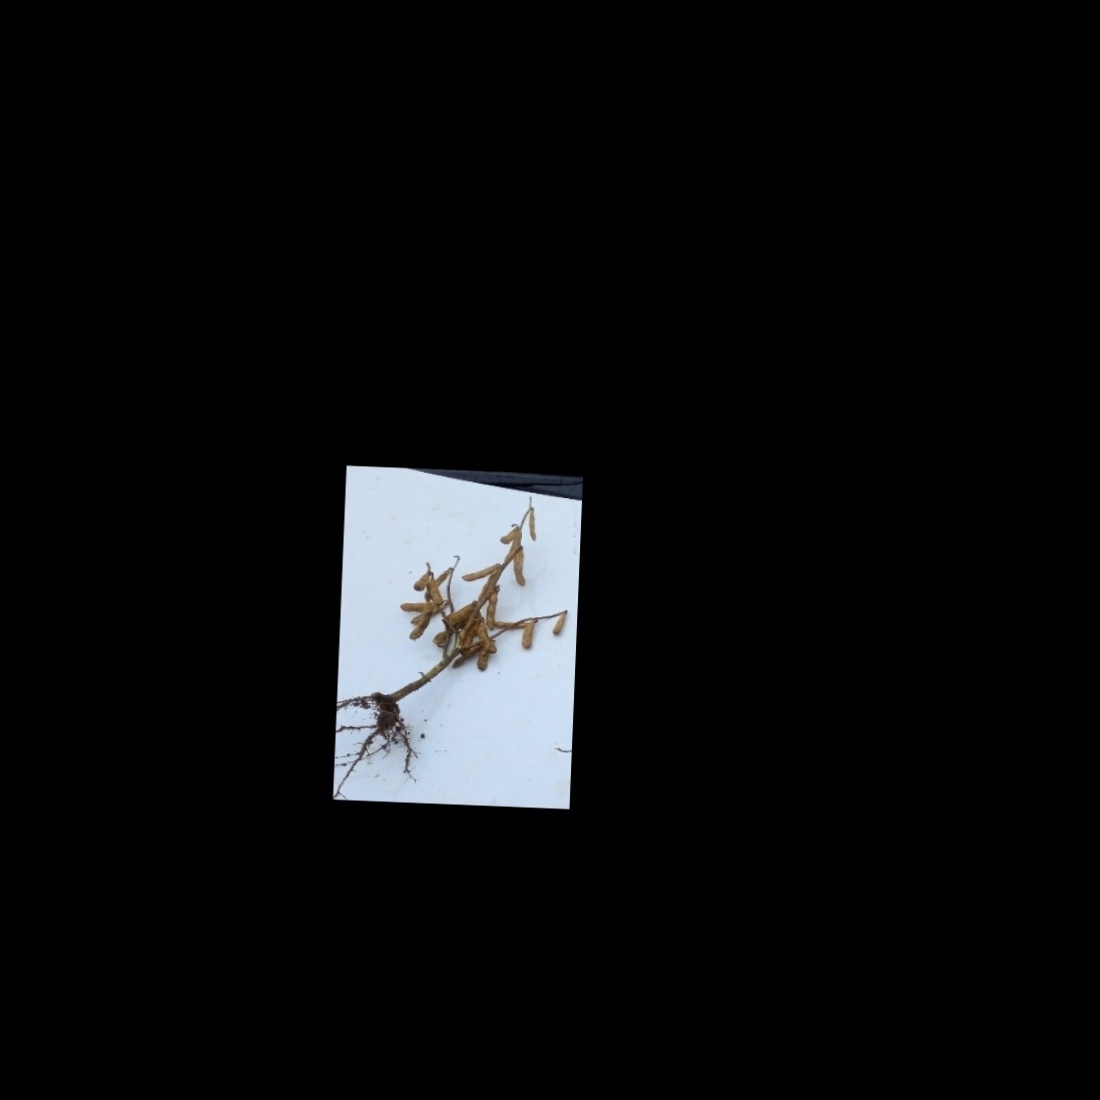pod: (461, 558, 499, 583), (520, 620, 538, 654), (512, 549, 527, 589), (549, 612, 567, 641), (497, 521, 518, 544), (486, 591, 498, 632), (410, 569, 428, 595), (527, 509, 541, 542)
soy: (341, 488, 576, 765)
